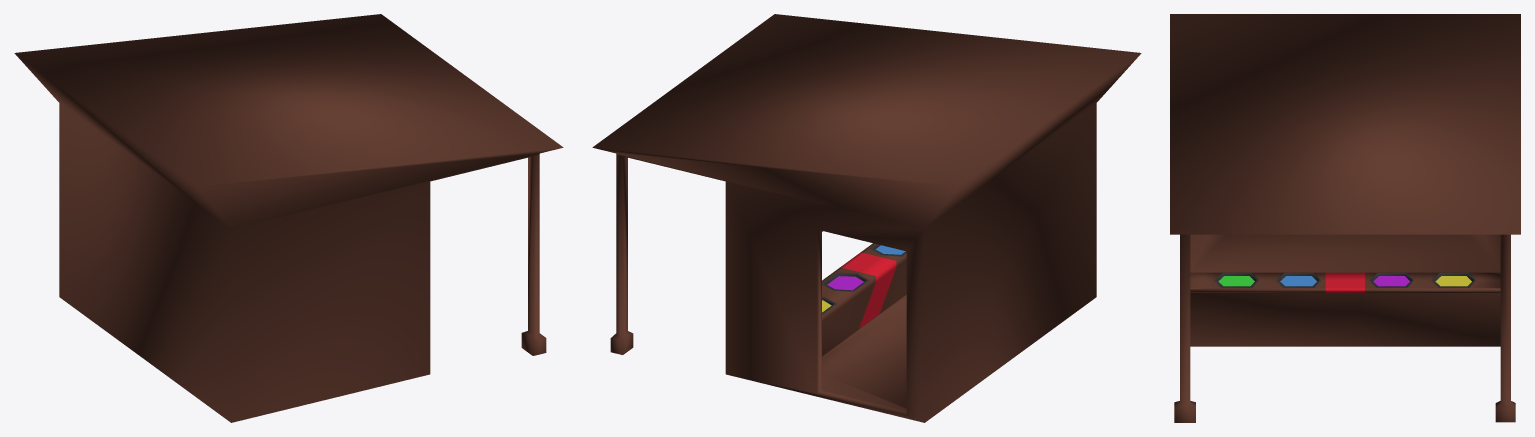
The model's file is PotionStore.fbx.
3 views of the same model, side by side, from view 1: azimuth 30°, elevation 25°; view 2: azimuth 150°, elevation 25°; view 3: azimuth 270°, elevation 25° (orthographic). The views are drawn at different scales.
Parts seen in each view (by area): view 1: PotionStore; view 2: PotionStore, Potions; view 3: PotionStore, Potions.
Part boxes in pixels (x1,y1,x2,y2): PotionStore: [14, 14, 563, 422]; PotionStore: [592, 14, 1141, 422]; Potions: [822, 245, 905, 312]; PotionStore: [1170, 14, 1520, 422]; Potions: [1218, 276, 1471, 286].
Size of the model in its own units: 1753 by 1158 by 1510.
